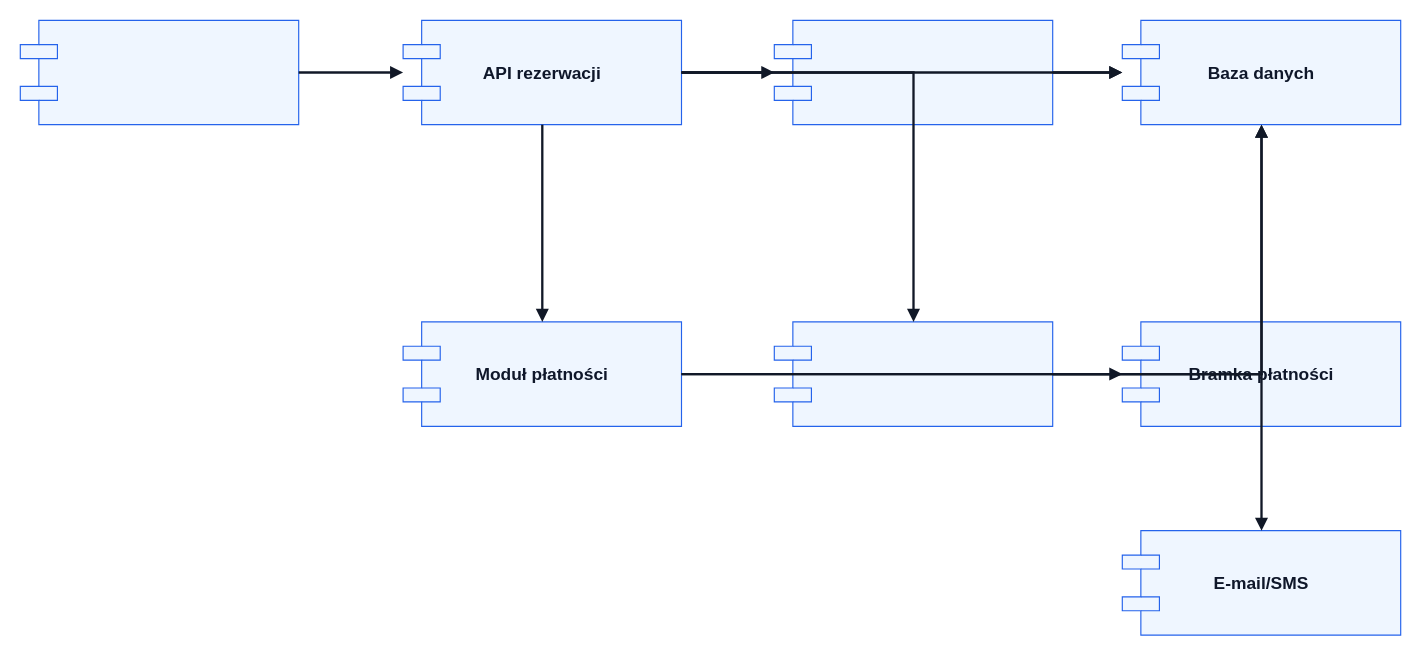
Image size: 1421x655. Some labels were removed from this diagram. Here are the shapes that lost their labels. From the top down, the box of each, then its label:
(19, 19, 299, 125): Aplikacja pacjenta
(773, 19, 1053, 125): Moduł harmonogramu
(773, 321, 1053, 426): Moduł powiadomień
